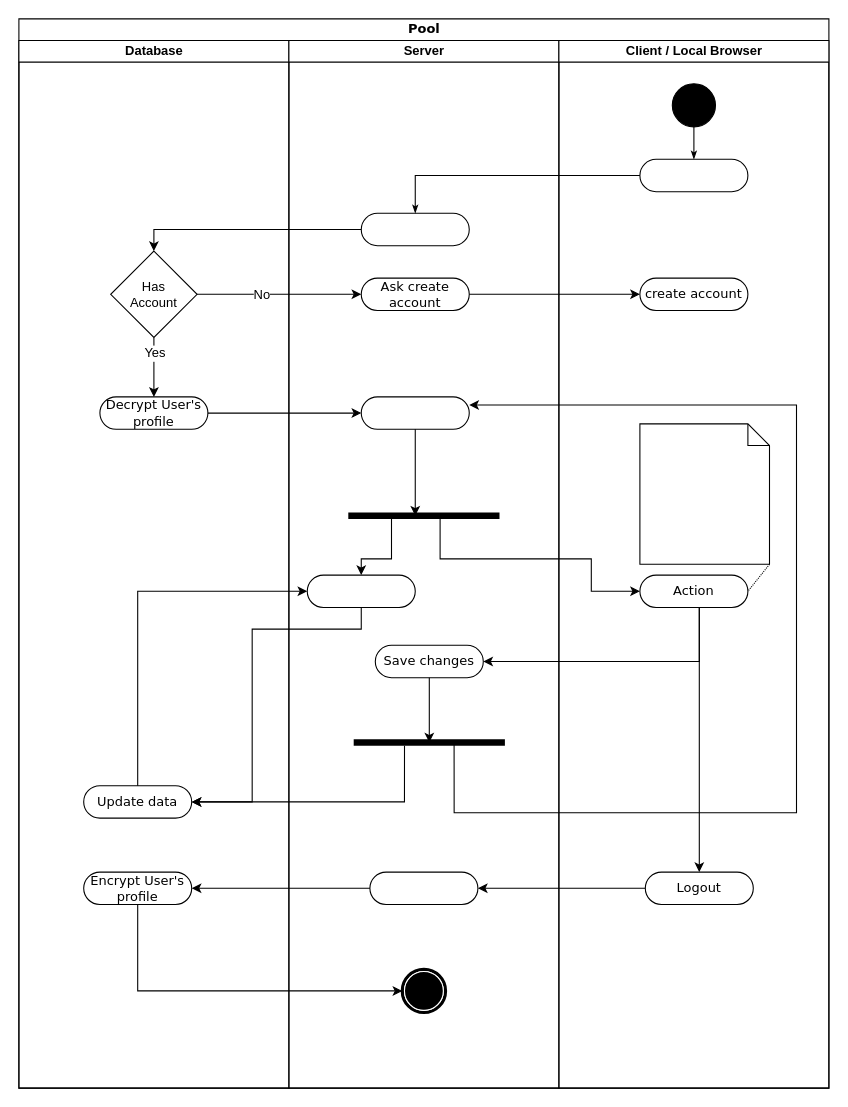
This 848x1107 diagram has some shape labels left out. Here are the shapes that lost their labels. From the top down, the centre of each, then its label:
At point 693,175: "log in".
At point 414,229: "Check for Account".
At point 414,412: "display Content".
At point 704,493: "Make Class add to Calendar Set due dates Edit".
At point 360,591: "Calculate grades".
At point 423,888: "close account".
